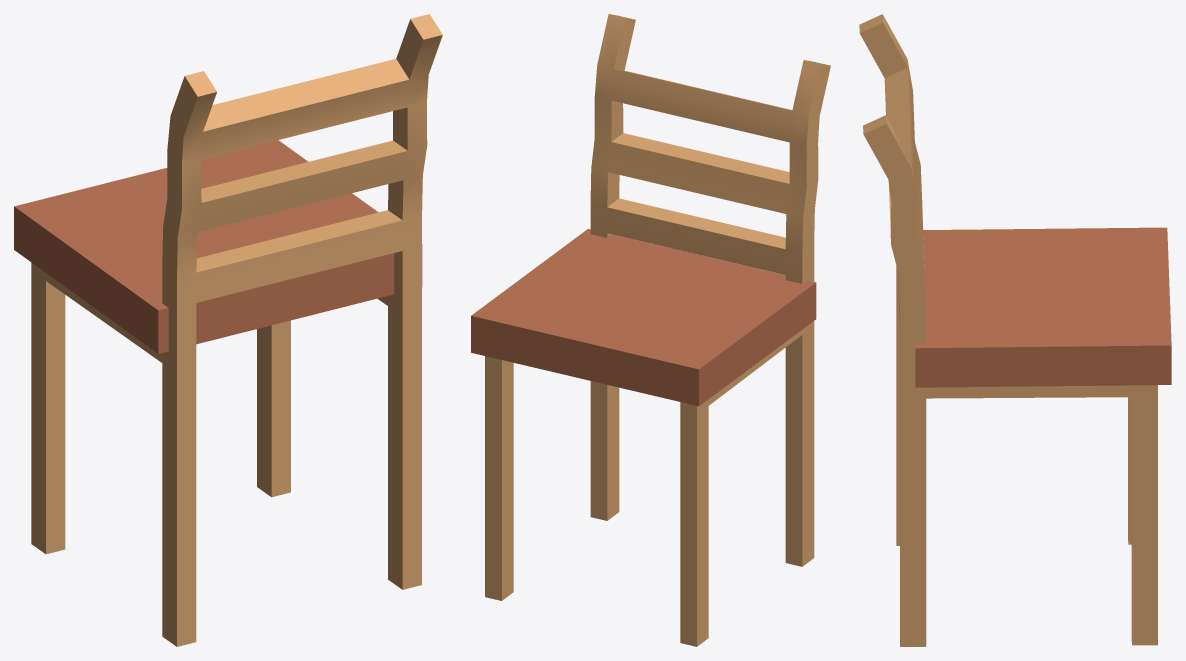
The picture shows the model from 3 angles, left to right: view 1: azimuth 30°, elevation 25°; view 2: azimuth 150°, elevation 25°; view 3: azimuth 270°, elevation 25°; orthographic projection. The views are drawn at different scales.
Visible parts, largest first — view 1: Cube.003; view 2: Cube.003; view 3: Cube.003.
Boxes of the visible parts, bbox=[...] form: Cube.003: bbox=[14, 14, 442, 646]; Cube.003: bbox=[471, 14, 830, 646]; Cube.003: bbox=[859, 14, 1171, 646].
Size of the model in its own units: 63.88 by 131 by 70.64.
